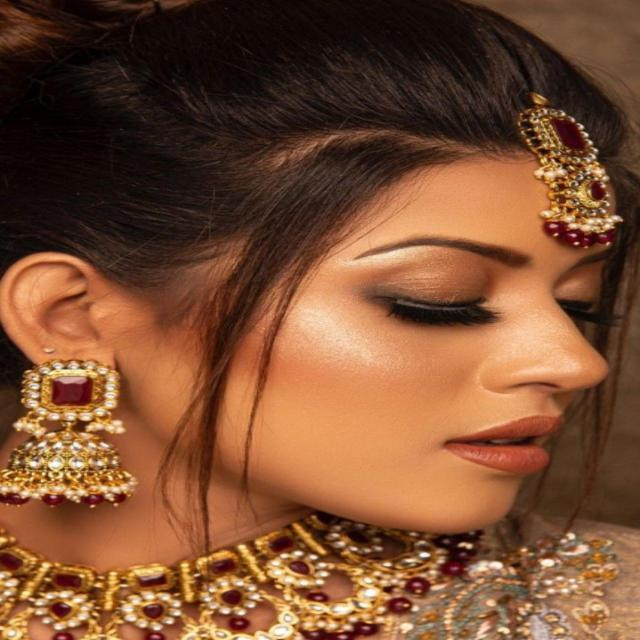Earring: (0, 352, 142, 524)
